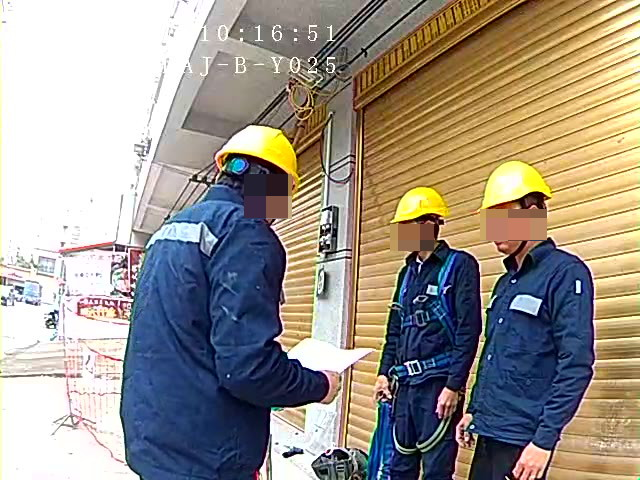downsuit: (370, 383, 467, 480), (467, 437, 521, 480)
halt: (477, 160, 555, 255), (218, 125, 300, 213), (392, 188, 452, 255)
hand: (513, 440, 553, 480), (319, 364, 346, 405), (452, 409, 478, 449), (370, 368, 393, 407), (436, 387, 458, 418)
inear: (516, 201, 547, 242), (411, 220, 437, 246), (270, 187, 290, 218)
person: (113, 124, 340, 480), (453, 157, 598, 480), (365, 184, 479, 480)
safebelt: (366, 244, 461, 480)
upsuit: (110, 182, 333, 480), (459, 237, 596, 431), (377, 238, 481, 386)
